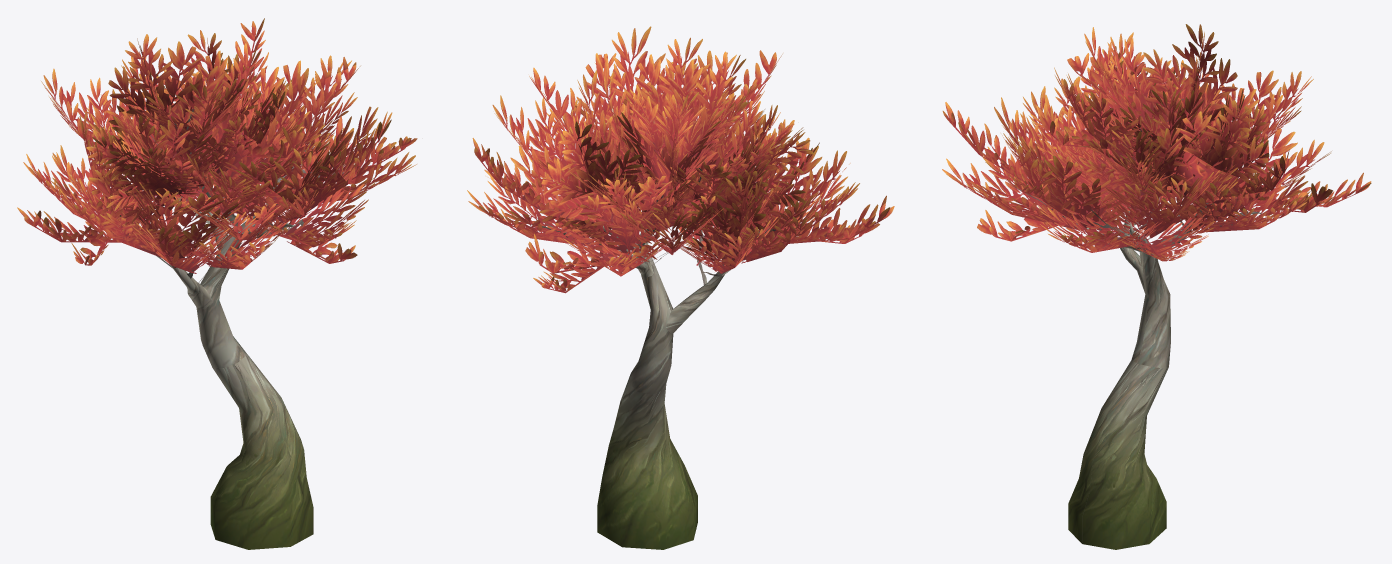
The model's file is mesh_qingming_tree03.FBX.
3 renders of one model, left to right at view 1: azimuth 30°, elevation 25°; view 2: azimuth 150°, elevation 25°; view 3: azimuth 270°, elevation 25°, orthographic. The views are drawn at different scales.
Visible parts, largest first — view 1: mesh_qingming_tree03; view 2: mesh_qingming_tree03; view 3: mesh_qingming_tree03.
Boxes of the visible parts, left/top/right/bottom form: mesh_qingming_tree03: left=17, top=18, right=417, bottom=549; mesh_qingming_tree03: left=467, top=26, right=894, bottom=549; mesh_qingming_tree03: left=942, top=24, right=1371, bottom=549.
Bounding box in the file's own units: 14.95 × 17.99 × 15.39.
